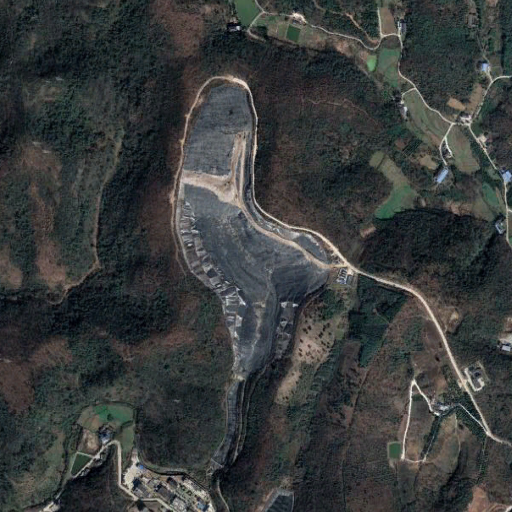lf: (169, 74, 336, 376)
